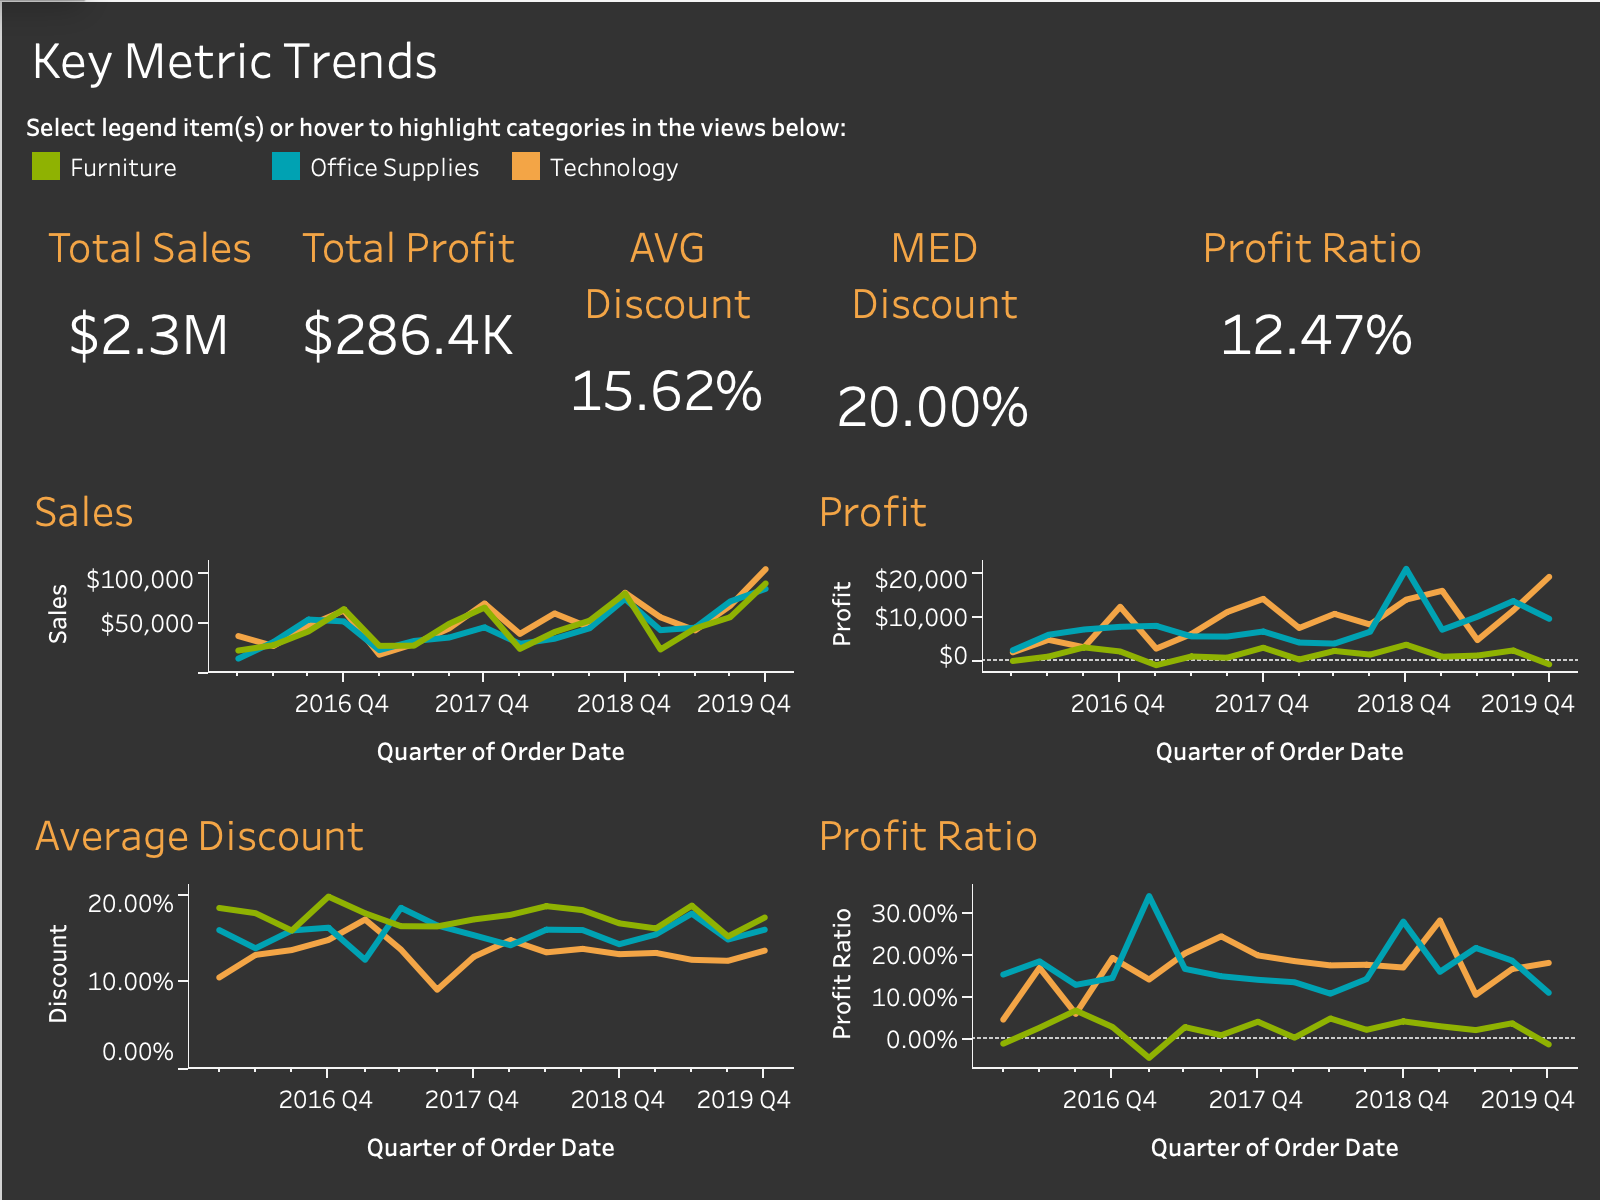

Layout of this report page (visuals, bound fields, positions):
{"tool":"tableau","page":{"name":"Key Metric Trends","canvas":[800,600],"ordinal":0},"visuals":[{"type":"title","box":[8,8,784,42]},{"type":"legend","title":"Sales","param":"[federated.0xrtodf0bijjoe15lna1d0ncx1xy].[none:Category:nk]","box":[8,50,784,50]},{"type":"worksheet","title":"Total Sales","mark":"Automatic","box":[8,100,133,132]},{"type":"worksheet","title":"Total Profit","mark":"Automatic","box":[141,100,125,132]},{"type":"worksheet","title":"AVG Discount","mark":"Automatic","box":[266,100,134,132]},{"type":"worksheet","title":"MED Discount","mark":"Automatic","box":[400,100,133,132]},{"type":"worksheet","title":"Profit Ratio ","mark":"Automatic","box":[533,100,249,132]},{"type":"worksheet","title":"Sales","mark":"Automatic","rows":["Sales"],"cols":["Order Date"],"box":[8,232,392,161.7]},{"type":"worksheet","title":"Profit","mark":"Automatic","rows":["Profit"],"cols":["Order Date"],"box":[400,232,392,161.7]},{"type":"worksheet","title":"Average Discount","mark":"Automatic","rows":["Discount"],"cols":["Order Date"],"box":[8,393.7,392,198.3]},{"type":"worksheet","title":"Profit Ratio","mark":"Automatic","rows":["Calculation_1717841812468973568"],"cols":["Order Date"],"box":[400,393.7,392,198.3]}]}

Visuals, with their boxes in screenshot pixels (x1, y1, x2, y2), scaled from the page's 800x600 canvas onto the 1600x1200 screenshot:
title: <box>16,16,1584,100</box>
"Sales" legend: <box>16,100,1584,200</box>
"Total Sales" worksheet: <box>16,200,282,464</box>
"Total Profit" worksheet: <box>282,200,532,464</box>
"AVG Discount" worksheet: <box>532,200,800,464</box>
"MED Discount" worksheet: <box>800,200,1066,464</box>
"Profit Ratio " worksheet: <box>1066,200,1564,464</box>
"Sales" worksheet: <box>16,464,800,787</box>
"Profit" worksheet: <box>800,464,1584,787</box>
"Average Discount" worksheet: <box>16,787,800,1184</box>
"Profit Ratio" worksheet: <box>800,787,1584,1184</box>
